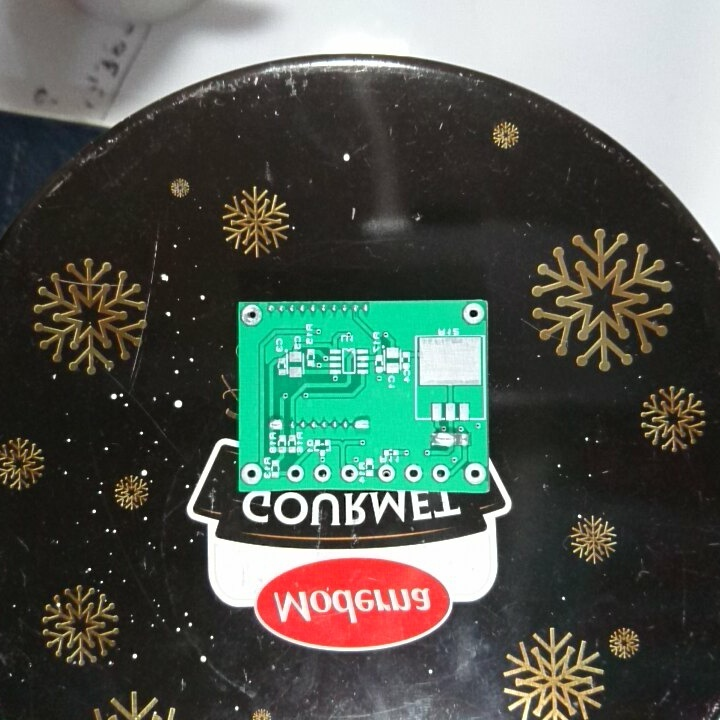F: (239, 460, 265, 486), (462, 460, 487, 487), (239, 304, 265, 329), (461, 302, 485, 325), (285, 460, 306, 486), (311, 462, 333, 485), (375, 462, 398, 484), (402, 461, 424, 484), (339, 462, 359, 484), (431, 462, 450, 485)
P: (431, 430, 459, 449), (351, 416, 372, 433), (267, 416, 285, 432)
